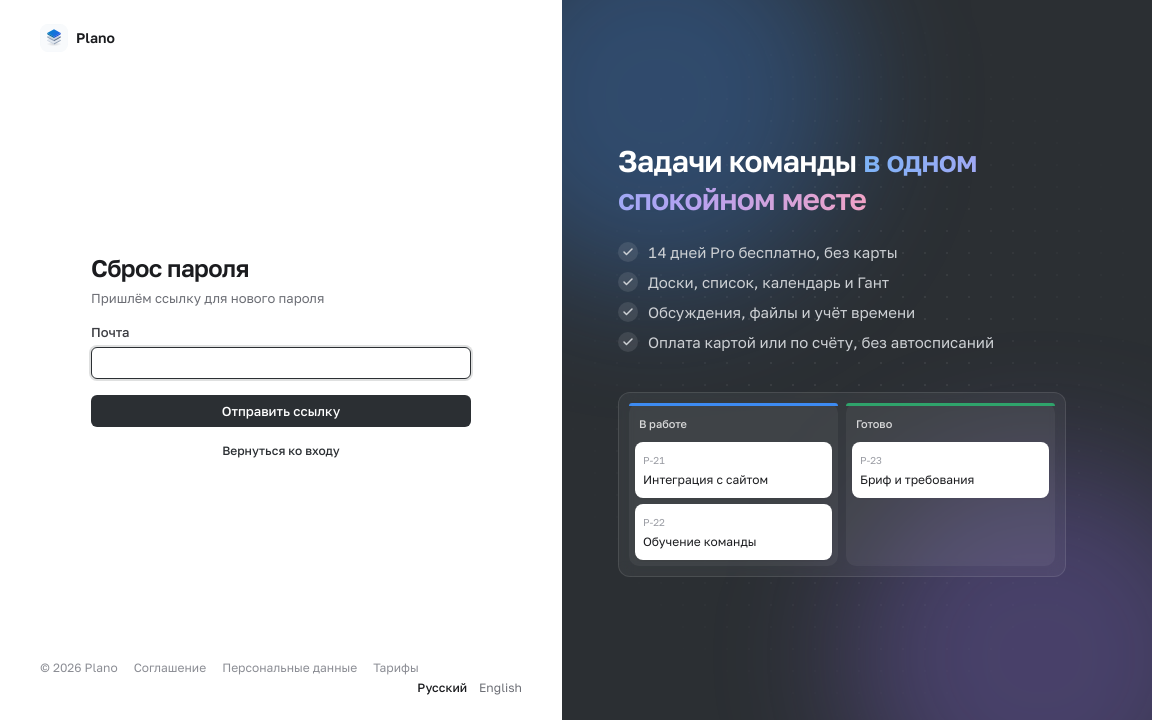
Scenario: password recovery › shows an error from the server
Click the button "Отправить ссылку". click: (281, 411)
box: x1=91 y1=395 x2=471 y2=427
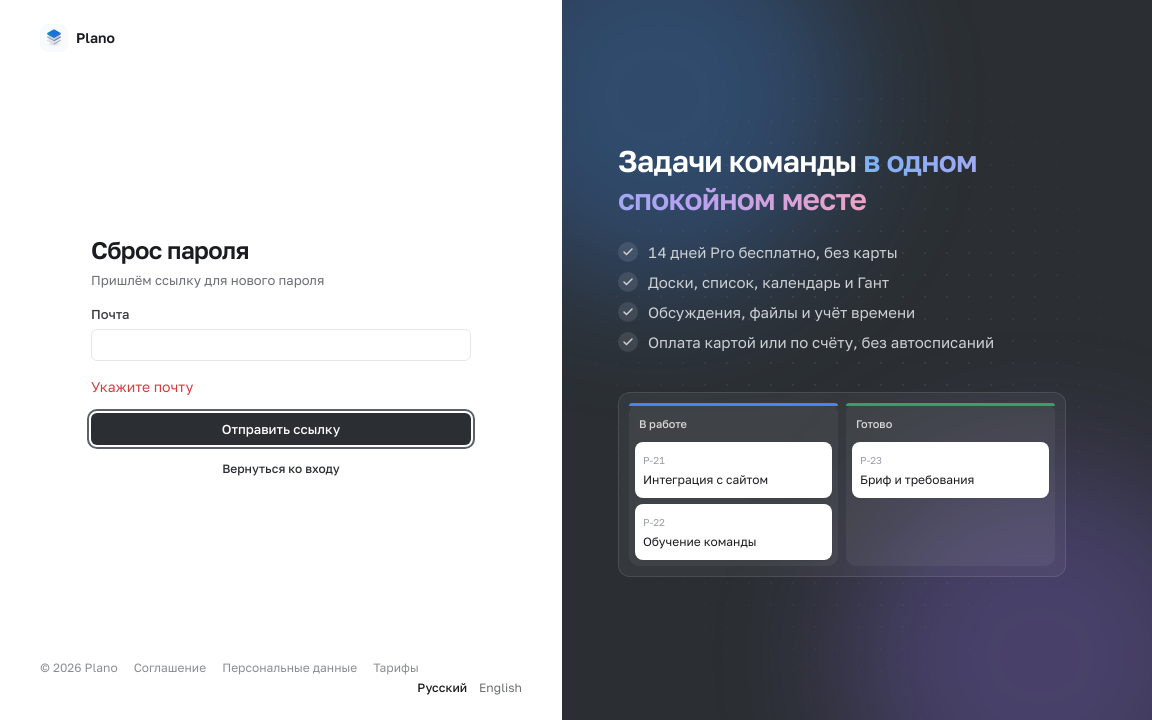
Result: the text "Укажите почту" is shown at x1=91 y1=378 x2=193 y2=395
